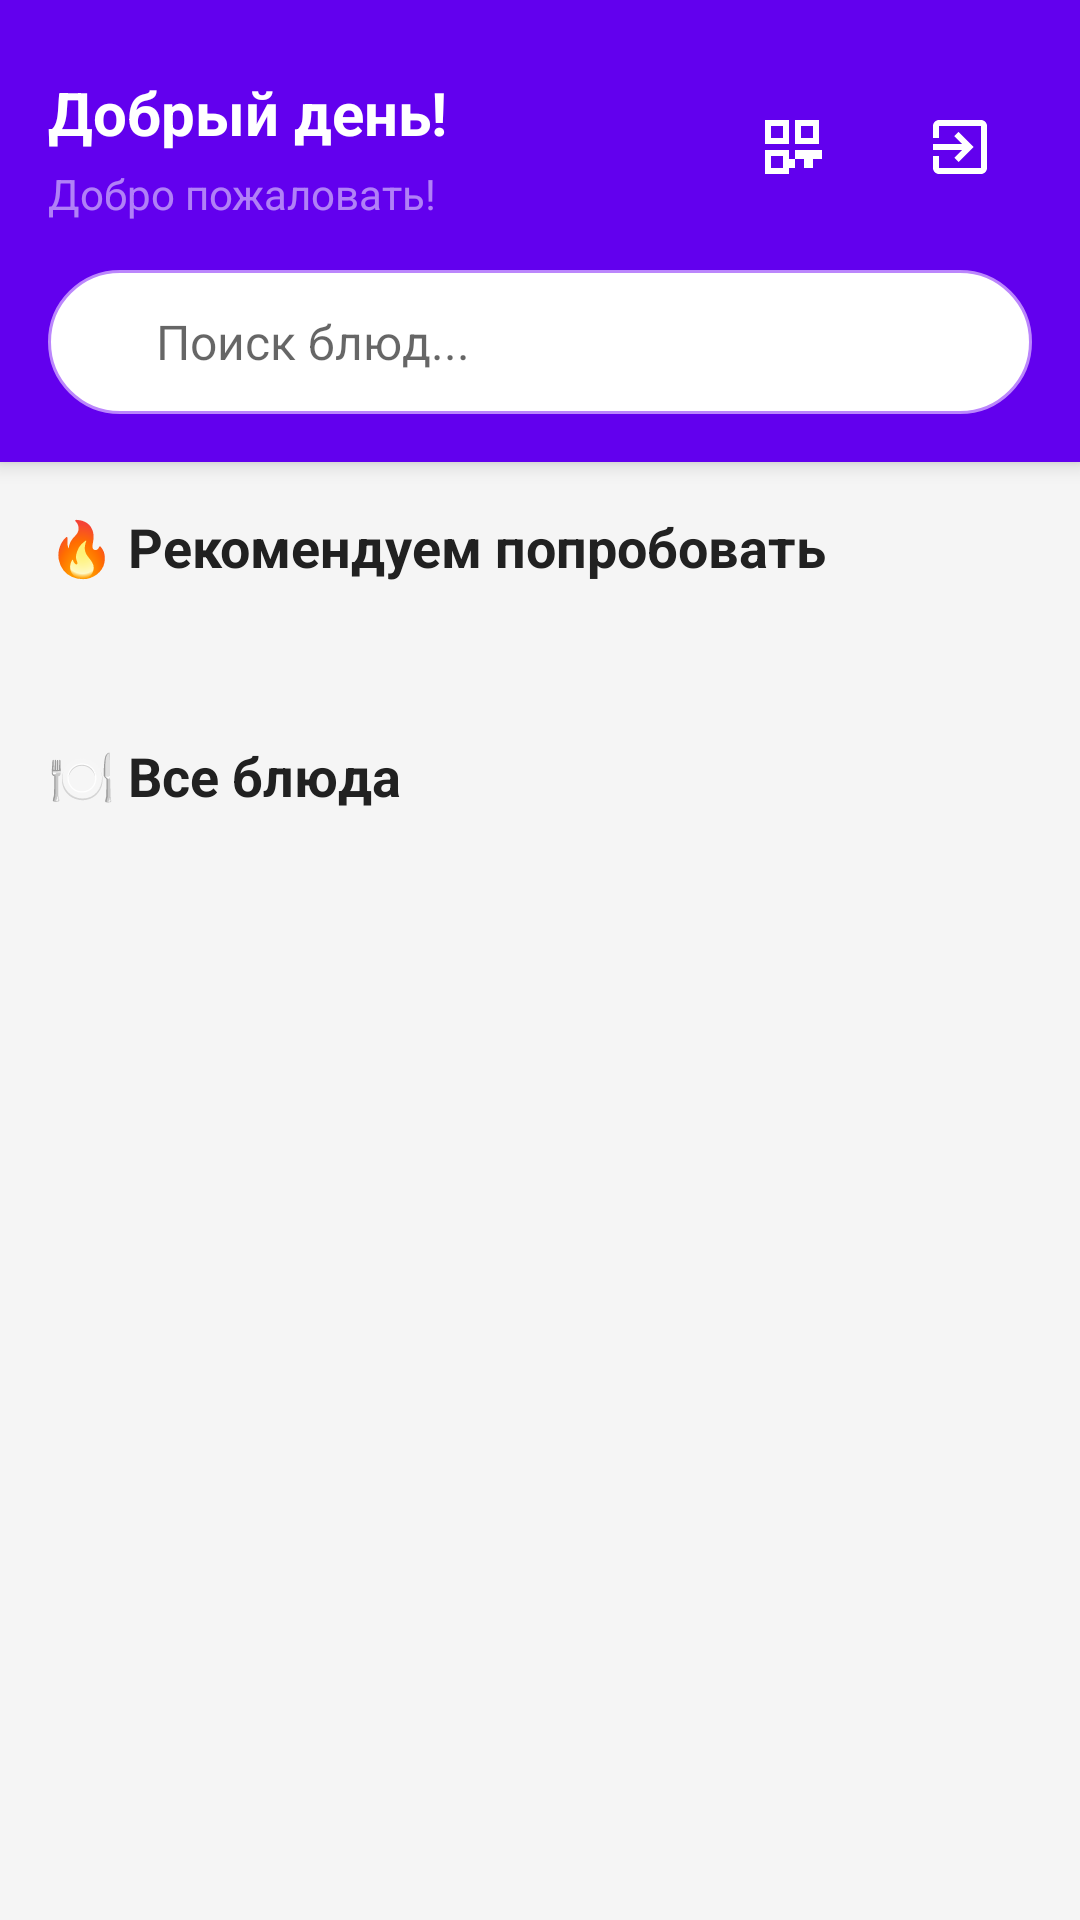

Screen size 1080 × 1920. Icon name, then its center in pixels as [x,y]:
QR Code: [793,147]
Выход: [960,147]
